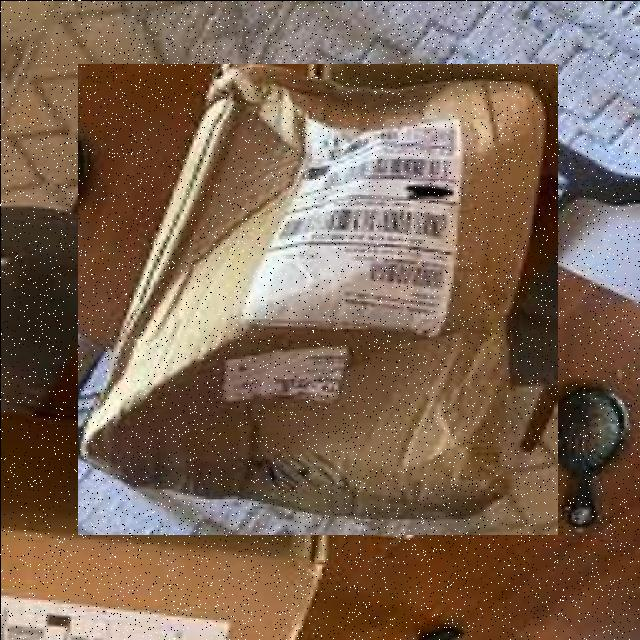defect: (77, 63, 557, 534)
